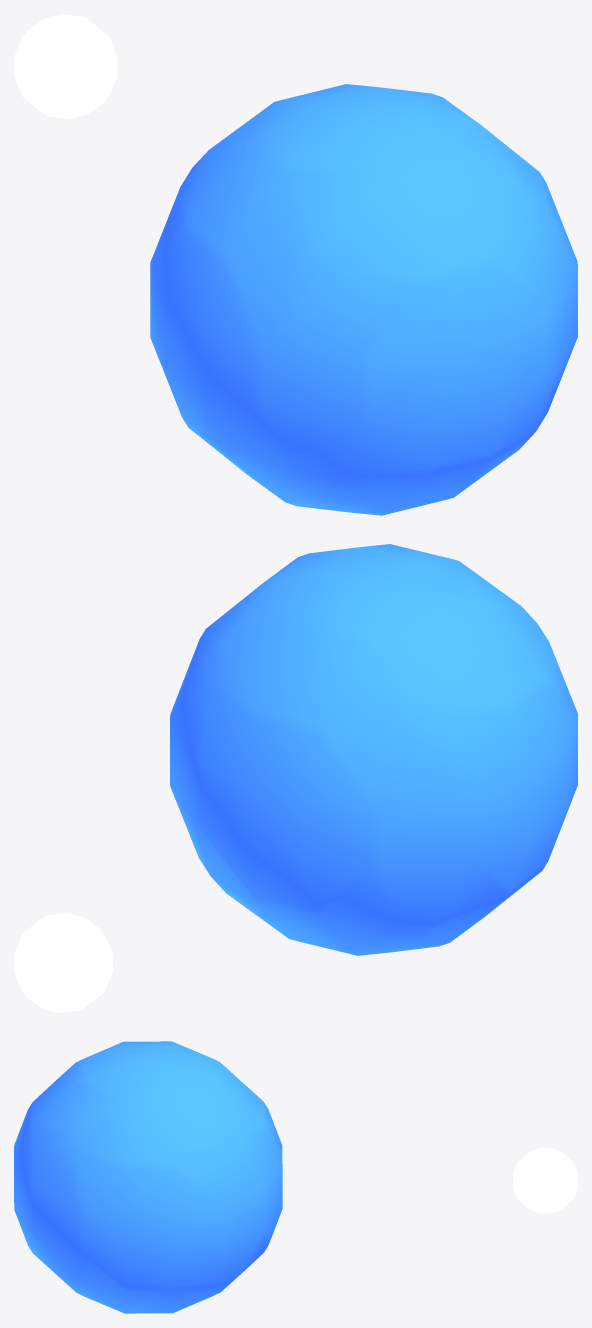
The model's file is hydrogen1.gltf.
The picture shows the model from 3 angles, top to bottom: view 1: azimuth 30°, elevation 25°; view 2: azimuth 150°, elevation 25°; view 3: azimuth 270°, elevation 25°; orthographic projection. The views are drawn at different scales.
Visible parts, largest first — view 1: Hydrogene.001, electron.001; view 2: Hydrogene.001, electron.001; view 3: Hydrogene.001, electron.001.
Part boxes in pixels (x1,y1,x2,y2): Hydrogene.001: (150, 84, 577, 515); electron.001: (14, 14, 117, 118); Hydrogene.001: (170, 544, 577, 955); electron.001: (14, 913, 112, 1012); Hydrogene.001: (14, 1041, 282, 1313); electron.001: (513, 1147, 577, 1213).
Size of the model in its own units: 2.16 by 2.16 by 4.54.
